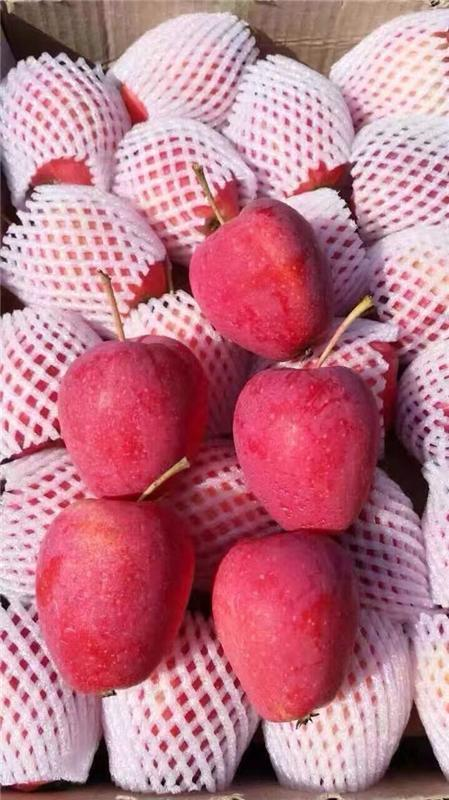apple: (33, 492, 194, 689), (213, 533, 361, 728), (57, 333, 212, 498), (230, 365, 375, 533), (188, 196, 332, 364)
